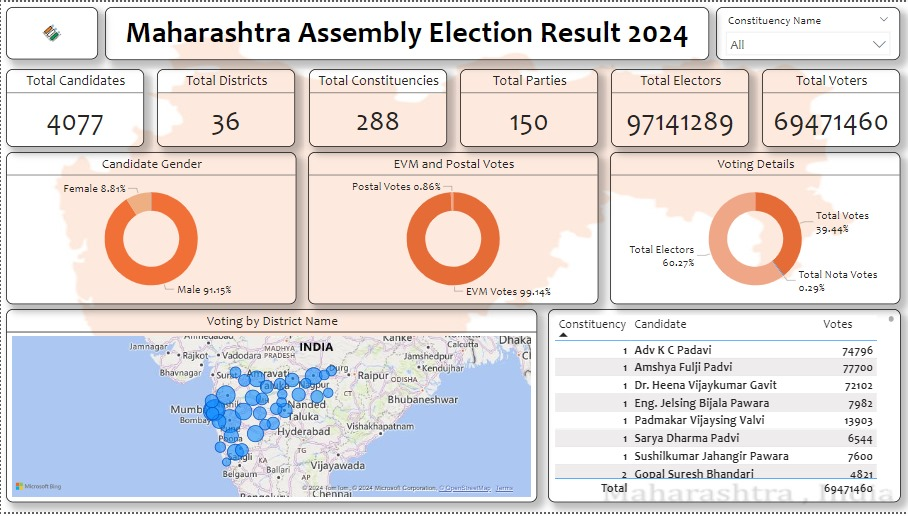

Layout of this report page (visuals, bound fields, positions):
{"tool":"powerbi","page":{"name":"Assembly","canvas":[1280,720],"ordinal":0},"visuals":[{"type":"card","title":"Total Candidates","fields":{"Values":["Count(Candidate_Dim.Candidate Key)"]},"box":[7.1,94.3,195,110],"z":0},{"type":"image","box":[7.1,7.1,130,74.3],"z":1000},{"type":"textbox","box":[146.7,6.7,853.3,75],"z":2000},{"type":"card","title":"Total Constituencies","fields":{"Values":["Count(Electors_Dim.Constituency Name)"]},"box":[434.3,95,195,110],"z":3000},{"type":"card","title":"Total Parties","fields":{"Values":["Calculated Measures.Total Parties"]},"box":[647.9,95,195,110],"z":4000},{"type":"card","title":"Total Districts","fields":{"Values":["Count(Electors_Dim.District Name)"]},"box":[220.7,94.3,195,110],"z":5000},{"type":"card","title":"Total Electors","fields":{"Values":["Calculated Measures.Total Electors"]},"box":[861.4,95,195,110],"z":6000},{"type":"donutChart","title":"Candidate Gender","fields":{"Category":["Candidate_Dim.Gender"],"Y":["Count(Candidate_Dim.Candidate Key)"]},"box":[7.1,211.4,410,215],"z":7000},{"type":"donutChart","title":"Voting Details","fields":{"Y":["Sum(Candidate_Dim.Total Votes Done)","Sum(Nota_Dim.Total Nota Votes)","Sum(Electors_Dim.Total Electors)"]},"box":[860,211.7,410,215],"z":8000},{"type":"card","title":"Total Voters","fields":{"Values":["Calculated Measures.Voting"]},"box":[1075,95,195,110],"z":9000},{"type":"donutChart","title":"EVM and Postal Votes","fields":{"Y":["Calculated Measures.EVM Votes","Calculated Measures.Postal Votes"]},"box":[433.6,211.7,410,215],"z":10000},{"type":"map","fields":{"Category":["Electors_Dim.District Name"],"Size":["Calculated Measures.Voting"]},"box":[6.7,433.3,750,273.3],"z":11000},{"type":"tableEx","fields":{"Values":["Candidate_Dim.Constituency Key","Candidate_Dim.Candidate Name","Calculated Measures.Voting"]},"box":[771.7,433.3,498.3,273.3],"z":12000},{"type":"slicer","fields":{"Values":["Electors_Dim.Constituency Name"]},"box":[1010,6.7,260,75],"z":13000}]}

Visuals, with their boxes in screenshot pixels (x1, y1, x2, y2), scaled from the page's 1280x720 canvas onto the 908x516 screenshot:
"Total Candidates" card: rect(5, 68, 143, 146)
image: rect(5, 5, 97, 58)
textbox: rect(104, 5, 709, 59)
"Total Constituencies" card: rect(308, 68, 446, 147)
"Total Parties" card: rect(460, 68, 598, 147)
"Total Districts" card: rect(157, 68, 295, 146)
"Total Electors" card: rect(611, 68, 749, 147)
"Candidate Gender" donutChart: rect(5, 152, 296, 306)
"Voting Details" donutChart: rect(610, 152, 901, 306)
"Total Voters" card: rect(763, 68, 901, 147)
"EVM and Postal Votes" donutChart: rect(308, 152, 598, 306)
map - Electors_Dim.District Name x Calculated Measures.Voting: rect(5, 311, 537, 506)
tableEx - Candidate_Dim.Constituency Key x Candidate_Dim.Candidate Name: rect(547, 311, 901, 506)
slicer - Electors_Dim.Constituency Name: rect(716, 5, 901, 59)
